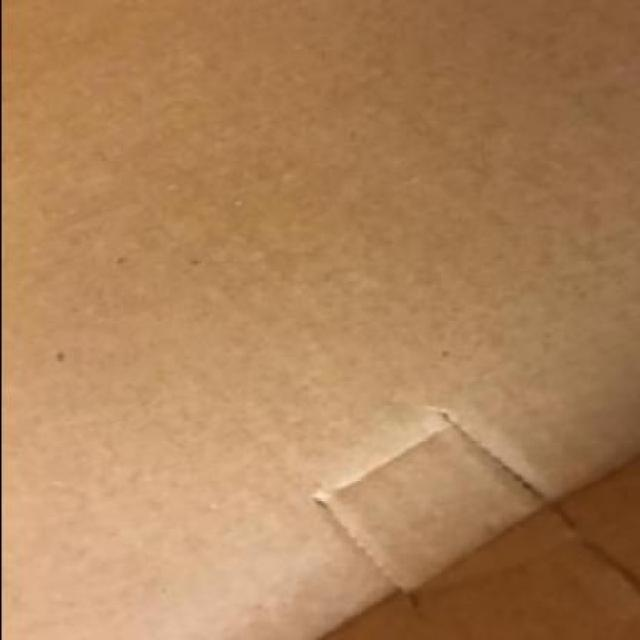CARDBOARD: (1, 1, 638, 638)
